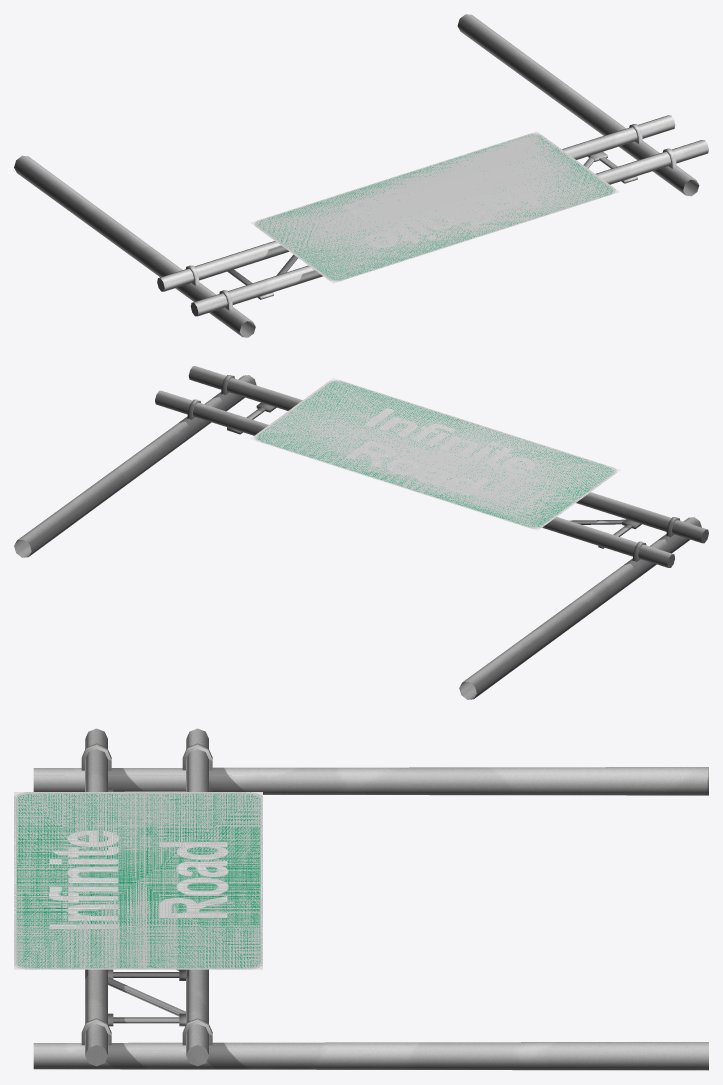
The model's file is infinite_road_sign.obj.
3 views of the same model, one above another, from view 1: azimuth 30°, elevation 25°; view 2: azimuth 150°, elevation 25°; view 3: azimuth 270°, elevation 25° (orthographic). The views are drawn at different scales.
Visible parts, largest first — view 1: infinite_road_sign; view 2: infinite_road_sign; view 3: infinite_road_sign.
Part boxes in pixels (<box>): infinite_road_sign: <box>14,14,708,337</box>; infinite_road_sign: <box>14,366,708,699</box>; infinite_road_sign: <box>14,728,708,1070</box>.
Size of the model in its own units: 23.13 by 2.89 by 18.13.
1 material, 1 textured.
